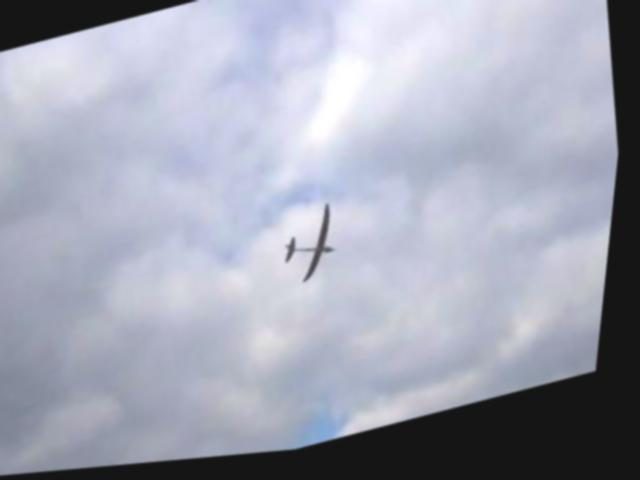uav: (275, 201, 357, 301)
